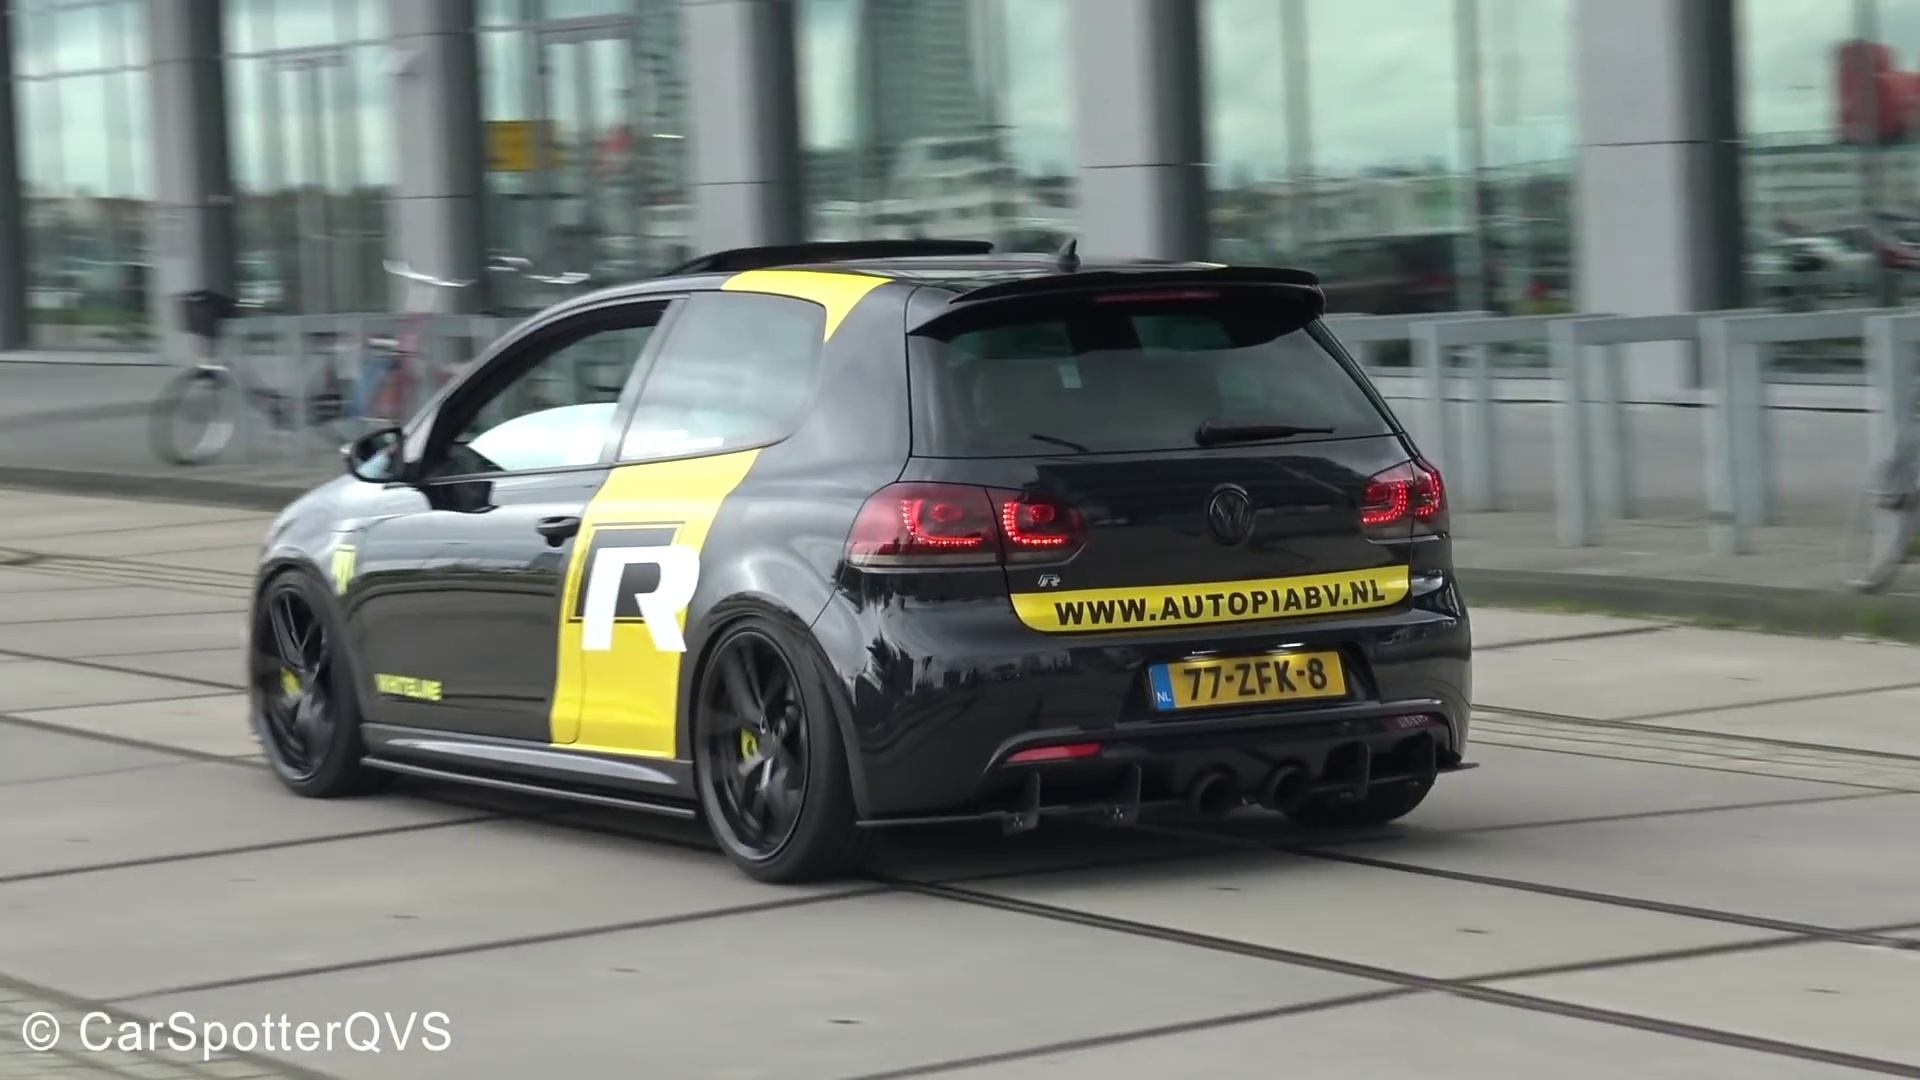num_plate: (1149, 649, 1358, 702)
